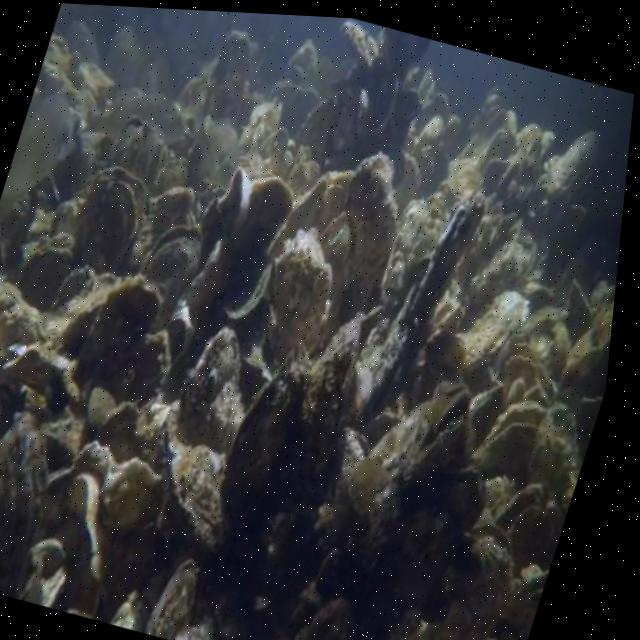Oyster-Closed: (339, 152, 398, 311), (460, 292, 530, 371), (204, 31, 251, 120), (16, 247, 71, 314), (324, 427, 370, 494), (494, 484, 545, 531), (285, 85, 323, 139), (105, 116, 142, 171), (311, 598, 351, 640), (150, 156, 187, 198), (286, 162, 319, 196), (427, 395, 452, 432), (20, 575, 42, 606), (291, 146, 312, 169)
Oyster-Indeterminate: (226, 343, 312, 503), (296, 314, 363, 472), (0, 415, 49, 595), (80, 276, 157, 383), (157, 448, 226, 566), (180, 327, 240, 458), (273, 232, 332, 360), (95, 332, 170, 413), (146, 555, 201, 640), (234, 178, 293, 253), (528, 438, 579, 517), (463, 536, 514, 615), (429, 468, 482, 527), (350, 456, 392, 517), (507, 507, 554, 561), (299, 100, 339, 163), (319, 215, 348, 299), (152, 189, 193, 241), (106, 27, 138, 83), (340, 22, 377, 67), (64, 20, 100, 65), (566, 279, 592, 337), (467, 523, 513, 553), (31, 539, 66, 578), (50, 201, 81, 236), (314, 550, 338, 591), (89, 387, 116, 423), (593, 299, 614, 344), (44, 36, 69, 64), (91, 66, 114, 88)
Oyster-Open: (79, 165, 145, 275), (139, 222, 203, 332), (471, 400, 550, 476), (501, 342, 557, 403), (268, 82, 300, 128), (530, 571, 549, 597)
